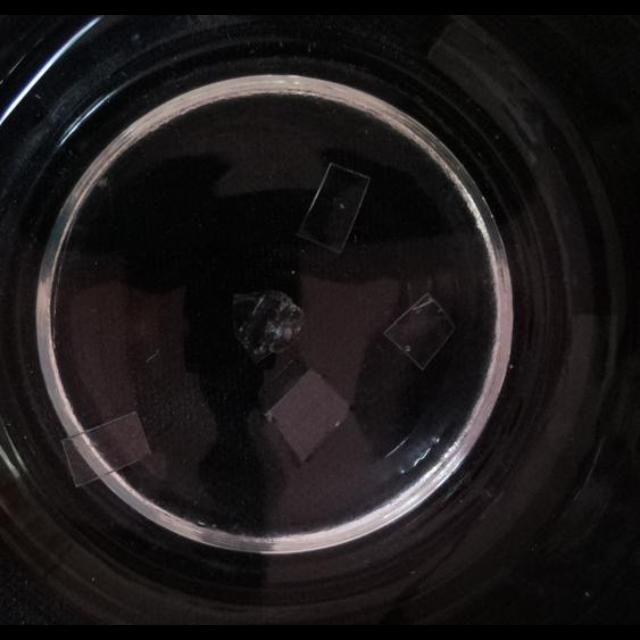Film: (264, 366, 350, 464), (60, 411, 154, 491), (295, 160, 373, 256), (382, 293, 456, 372)
Fragment: (235, 290, 305, 360)
